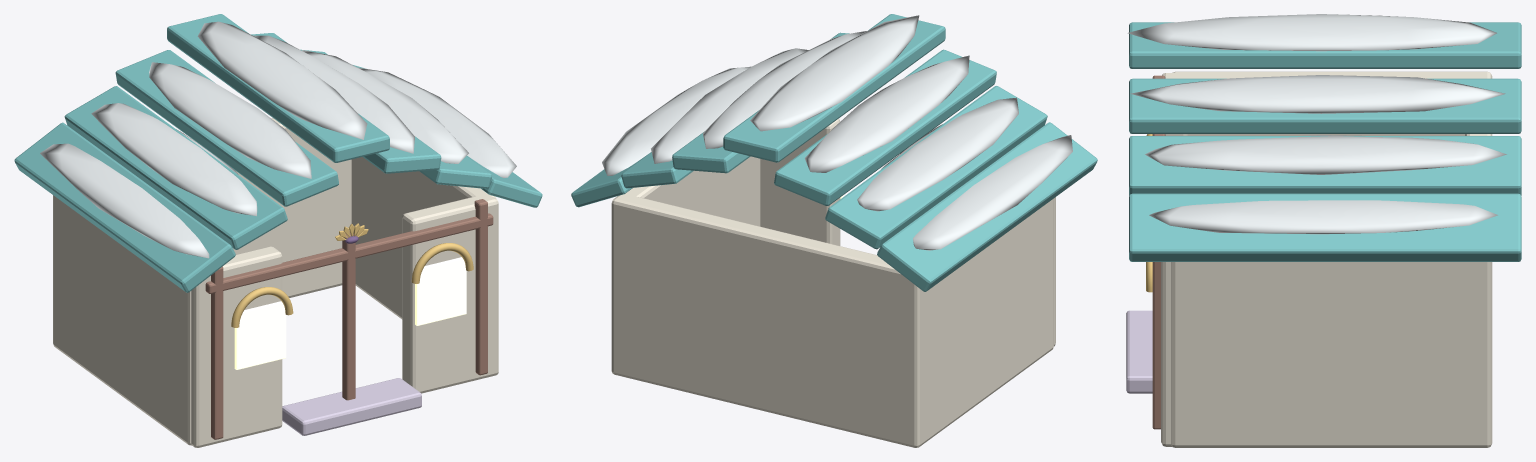
File: lagoon_alpine_chalet_a.glb
The picture shows the model from 3 angles, left to right: view 1: azimuth 30°, elevation 25°; view 2: azimuth 150°, elevation 25°; view 3: azimuth 270°, elevation 25°; orthographic projection. The views are drawn at different scales.
Visible parts, largest first — view 1: lagoon_alpine_chalet_a.001; view 2: lagoon_alpine_chalet_a.001; view 3: lagoon_alpine_chalet_a.001.
Boxes of the visible parts, box(x1,y1,x2,y2) form: lagoon_alpine_chalet_a.001: box(14, 14, 542, 447); lagoon_alpine_chalet_a.001: box(571, 14, 1097, 447); lagoon_alpine_chalet_a.001: box(1126, 14, 1521, 447).
Size of the model in its own units: 18.29 by 13.84 by 14.7.
